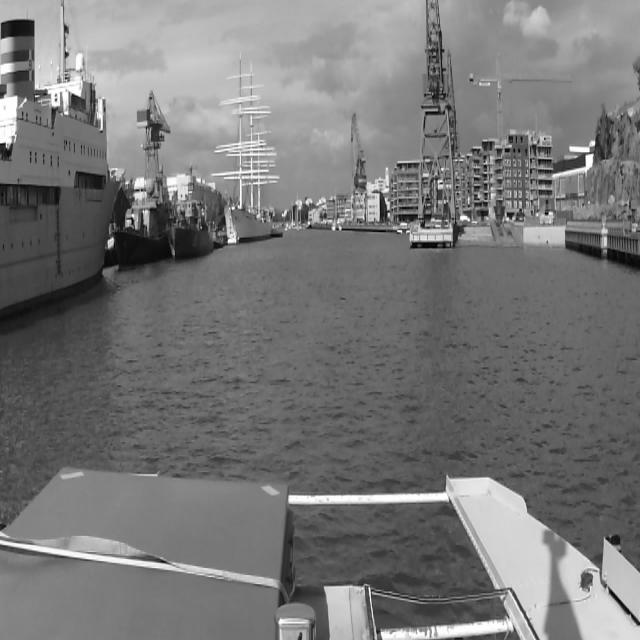ship: (0, 0, 122, 321), (211, 44, 281, 246), (110, 161, 170, 279), (168, 169, 218, 263), (331, 188, 343, 232), (296, 196, 302, 230), (269, 225, 283, 237), (396, 228, 411, 235), (306, 220, 312, 230)
